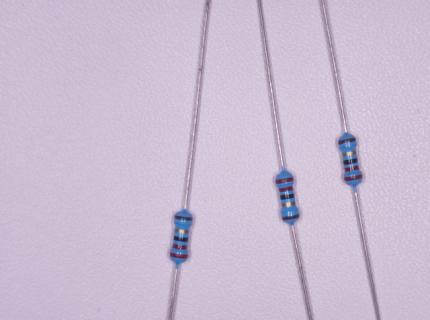Black band: (173, 235, 189, 242), (343, 158, 358, 165), (280, 194, 295, 200)
Brown band: (338, 137, 356, 145), (282, 214, 300, 221), (175, 215, 193, 221)
Gold band: (281, 201, 296, 208), (175, 228, 189, 234), (342, 150, 356, 156)
Red band: (275, 177, 294, 184), (344, 174, 363, 181), (170, 252, 188, 258), (345, 165, 359, 172), (278, 186, 294, 192), (173, 243, 188, 249)
